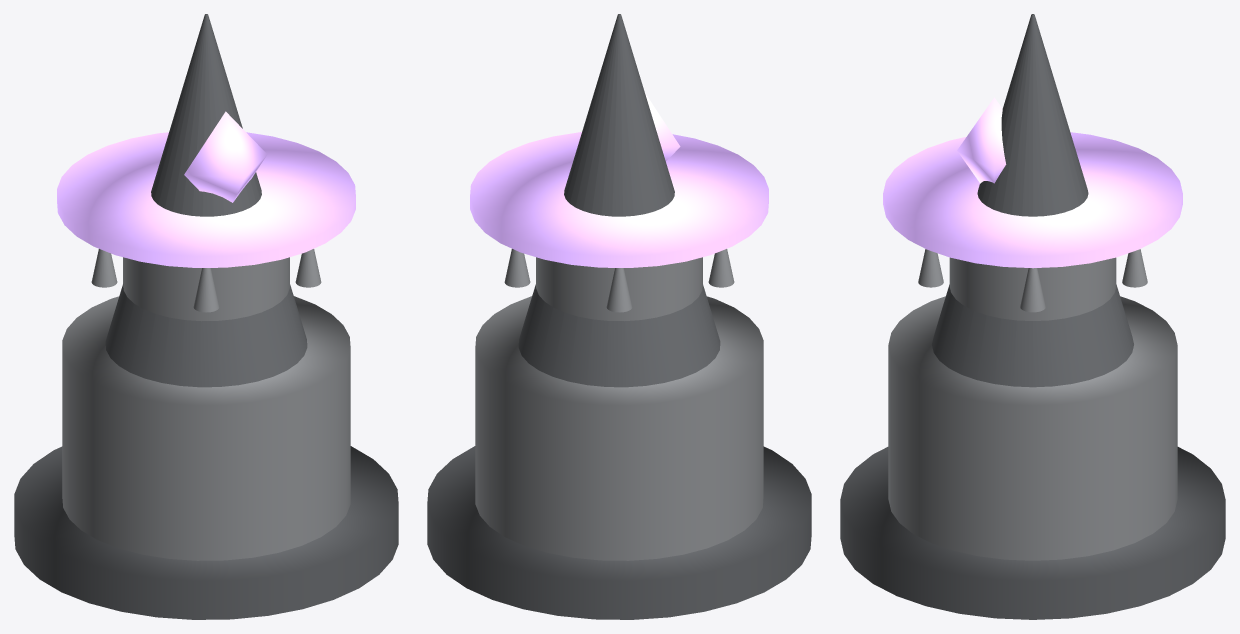
The model's file is void_l1.glb.
The picture shows the model from 3 angles, left to right: view 1: azimuth 30°, elevation 25°; view 2: azimuth 150°, elevation 25°; view 3: azimuth 270°, elevation 25°; orthographic projection.
Parts seen in each view (by area): view 1: base, footing, spinRing, obelisk, shaft, spinCrystal, VoidLowerShard2, VoidLowerShard3, VoidLowerShard1; view 2: base, footing, obelisk, spinRing, shaft, VoidLowerShard4, VoidLowerShard3, VoidLowerShard5, spinCrystal; view 3: base, footing, obelisk, spinRing, shaft, spinCrystal, VoidLowerShard0, VoidLowerShard1, VoidLowerShard5.
Part boxes in pixels (x1=…): base: x1=62, y1=296, x2=350, y2=560; footing: x1=14, y1=446, x2=398, y2=619; spinRing: x1=57, y1=132, x2=355, y2=267; obelisk: x1=105, y1=14, x2=307, y2=387; shaft: x1=123, y1=257, x2=289, y2=321; spinCrystal: x1=184, y1=111, x2=267, y2=202; VoidLowerShard2: x1=193, y1=268, x2=219, y2=312; VoidLowerShard3: x1=91, y1=249, x2=117, y2=287; VoidLowerShard1: x1=295, y1=249, x2=321, y2=287; base: x1=475, y1=296, x2=763, y2=560; footing: x1=427, y1=446, x2=811, y2=619; obelisk: x1=518, y1=14, x2=720, y2=387; spinRing: x1=470, y1=132, x2=768, y2=267; shaft: x1=536, y1=257, x2=702, y2=321; VoidLowerShard4: x1=606, y1=268, x2=632, y2=312; VoidLowerShard3: x1=708, y1=249, x2=734, y2=287; VoidLowerShard5: x1=504, y1=249, x2=530, y2=287; spinCrystal: x1=645, y1=93, x2=680, y2=161; base: x1=888, y1=296, x2=1177, y2=560; footing: x1=840, y1=447, x2=1225, y2=619; obelisk: x1=932, y1=14, x2=1133, y2=387; spinRing: x1=883, y1=132, x2=1182, y2=268; shaft: x1=949, y1=257, x2=1116, y2=320; spinCrystal: x1=957, y1=97, x2=1006, y2=183; VoidLowerShard0: x1=1020, y1=268, x2=1045, y2=312; VoidLowerShard1: x1=918, y1=249, x2=943, y2=287; VoidLowerShard5: x1=1122, y1=249, x2=1147, y2=287.
Bounding box in the file's own units: 1.8 × 2.7 × 1.8.
